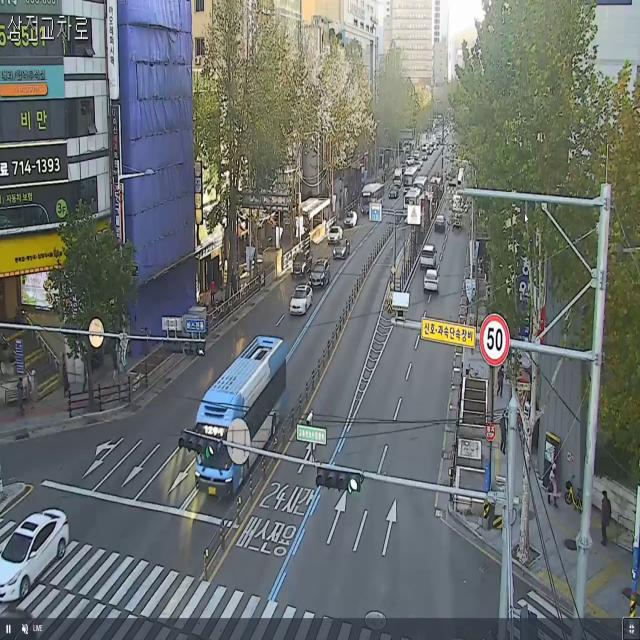car: (195, 338, 289, 496), (361, 184, 384, 212), (403, 188, 421, 218)
motorcycle: (0, 506, 69, 610), (290, 282, 313, 318), (292, 248, 310, 274), (312, 261, 330, 287), (420, 244, 436, 266), (424, 271, 440, 291), (335, 242, 348, 258), (328, 226, 340, 241), (436, 216, 444, 234), (346, 213, 353, 228)
